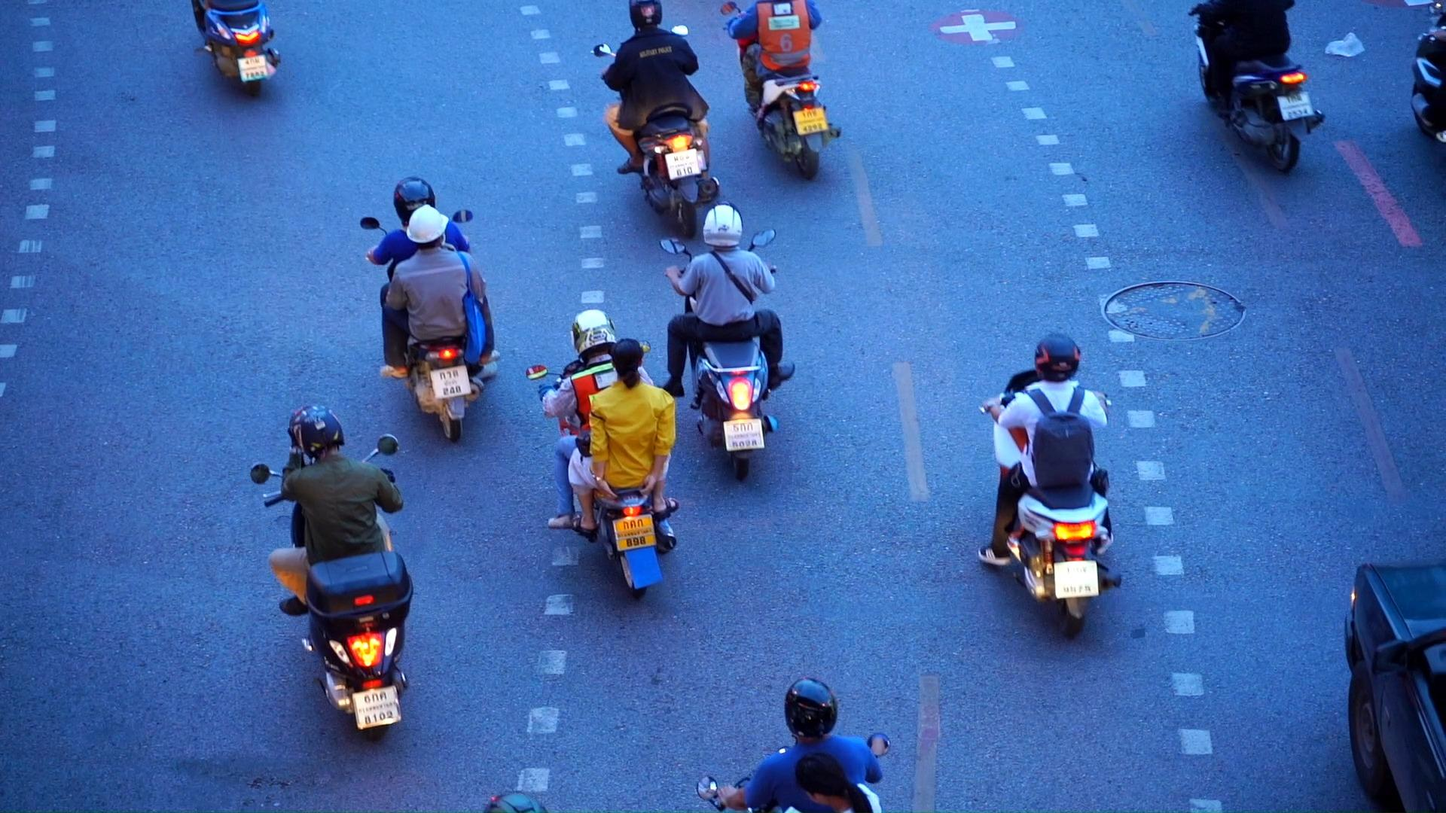driver: (251, 405, 414, 742), (525, 310, 681, 599), (977, 334, 1122, 638), (659, 199, 796, 481), (361, 177, 501, 443), (593, 0, 720, 240), (695, 677, 892, 813), (1188, 0, 1325, 175), (720, 0, 841, 181), (1409, 2, 1446, 145)
helmet: (784, 677, 838, 746), (290, 405, 345, 460), (570, 309, 617, 364), (1034, 333, 1081, 382), (393, 177, 435, 228), (406, 204, 449, 251), (703, 200, 743, 248), (629, 0, 663, 34)
no-helmet: (796, 751, 873, 806), (612, 338, 644, 390)
